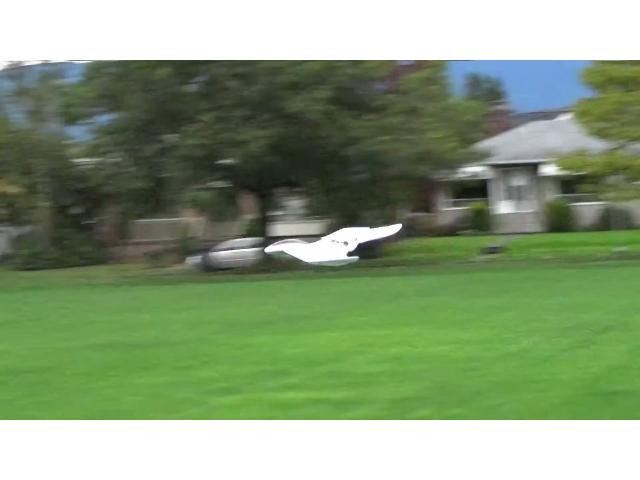Anti-Drone: (264, 223, 402, 267)
